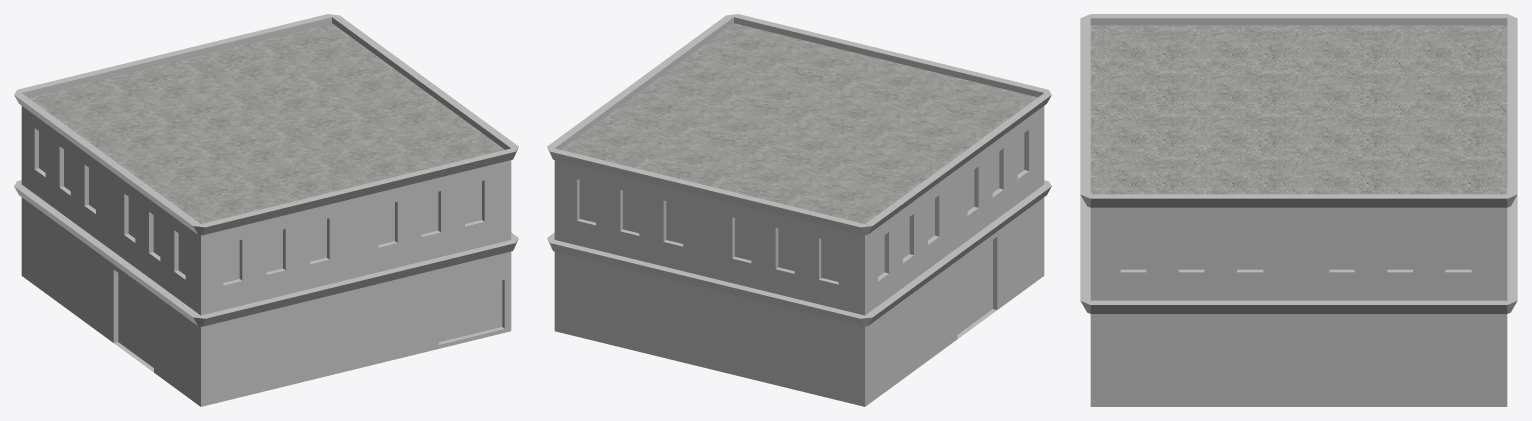
File: RV_Building_Type_B_02.fbx
The picture shows the model from 3 angles, left to right: view 1: azimuth 30°, elevation 25°; view 2: azimuth 150°, elevation 25°; view 3: azimuth 270°, elevation 25°; orthographic projection. The views are drawn at different scales.
Visible parts, largest first — view 1: RV_Building_Type_B_02; view 2: RV_Building_Type_B_02; view 3: RV_Building_Type_B_02.
Boxes of the visible parts, <box> form: RV_Building_Type_B_02: <box>14,14,518,406</box>; RV_Building_Type_B_02: <box>547,14,1051,406</box>; RV_Building_Type_B_02: <box>1080,14,1517,406</box>.
Bounding box in the file's own units: 1074 × 576 × 1074.
